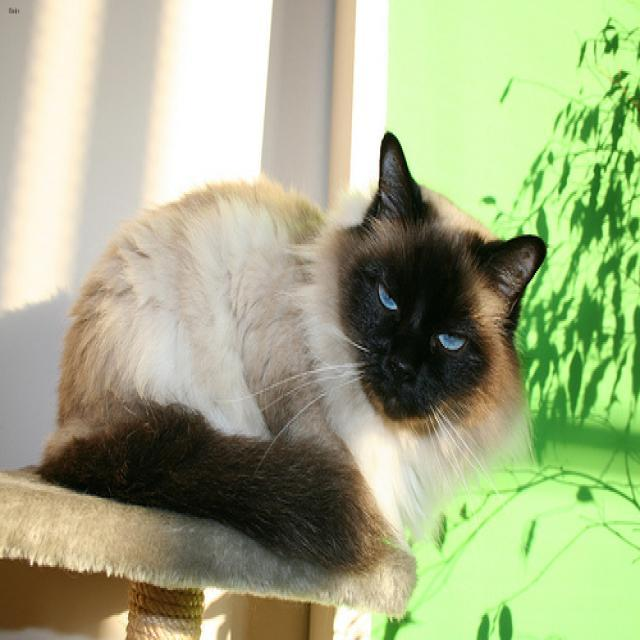Birman: (320, 91, 549, 496)
